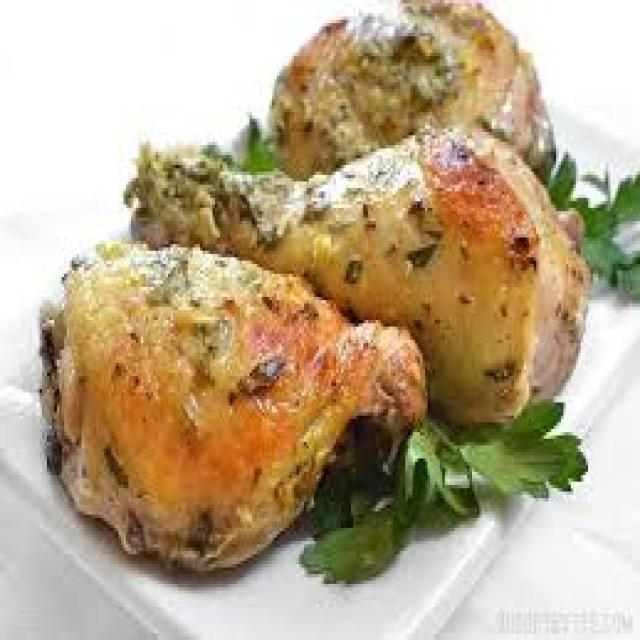Frango: (59, 20, 593, 584)
